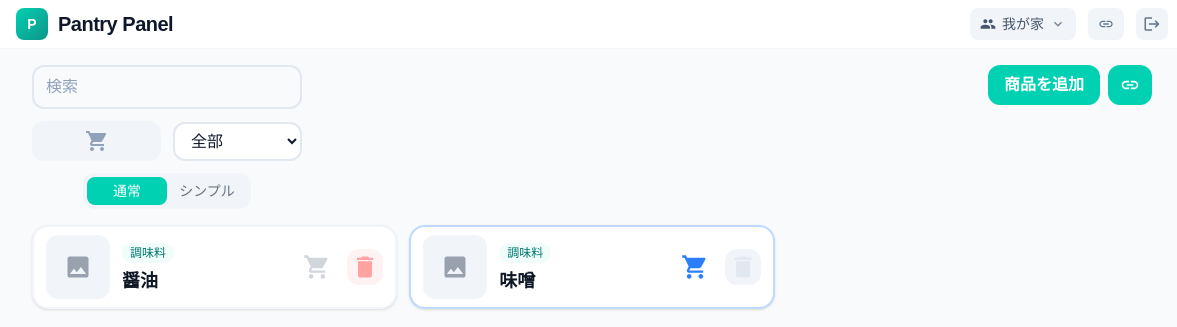
Test case: StockItemsClient › 検索入力で絞り込まれ、クリアで戻る
Expected: the heading "醤油" is shown, [122,270,158,290]
Expected: the heading "味噌" is shown, [499,270,535,290]
"醤" を入力 → 醤油のみ
Type "醤" into the search field at x=167, y=87, box [32,65,302,109]
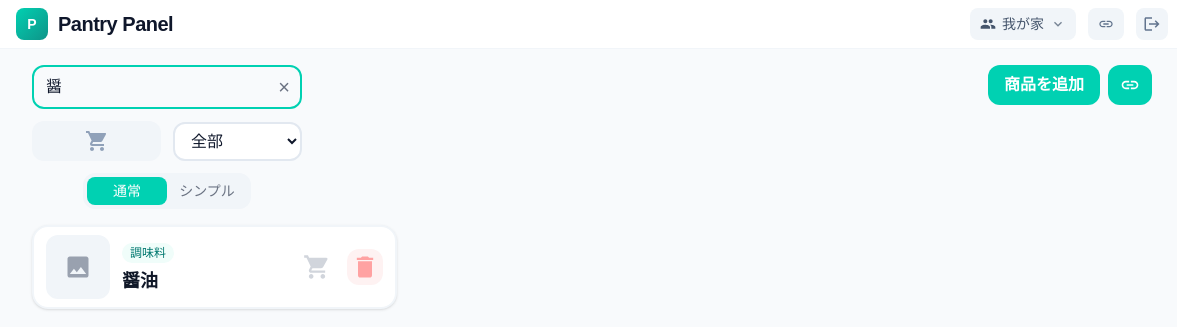
Expected: the heading "醤油" is shown, [122,270,158,290]
Result: the button "味噌" is gone
クリアで両方戻る
Click the button named "クリア" at x=284, y=87, box [266,65,302,109]
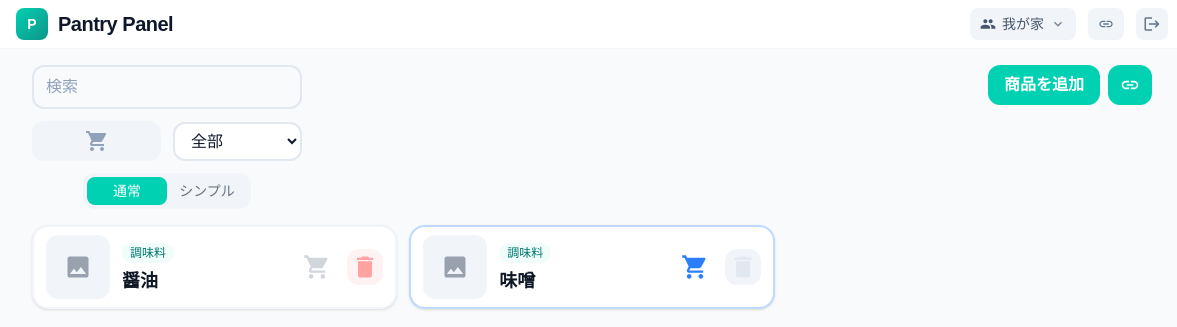
Expected: the heading "醤油" is shown, [122,270,158,290]
Result: the heading "味噌" is shown at [499,270,535,290]
